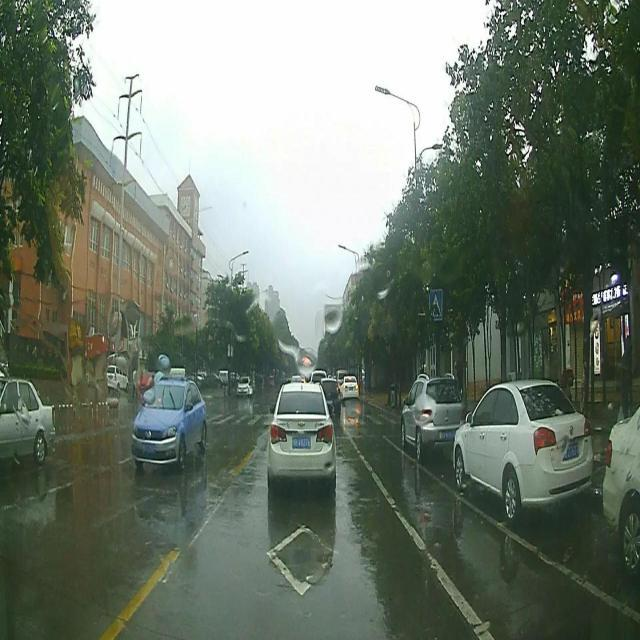car: (452, 380, 592, 520), (129, 374, 208, 469), (268, 382, 336, 490), (602, 398, 640, 568), (0, 374, 57, 463), (400, 374, 465, 452), (319, 380, 342, 417), (342, 374, 359, 401), (236, 376, 252, 399)
